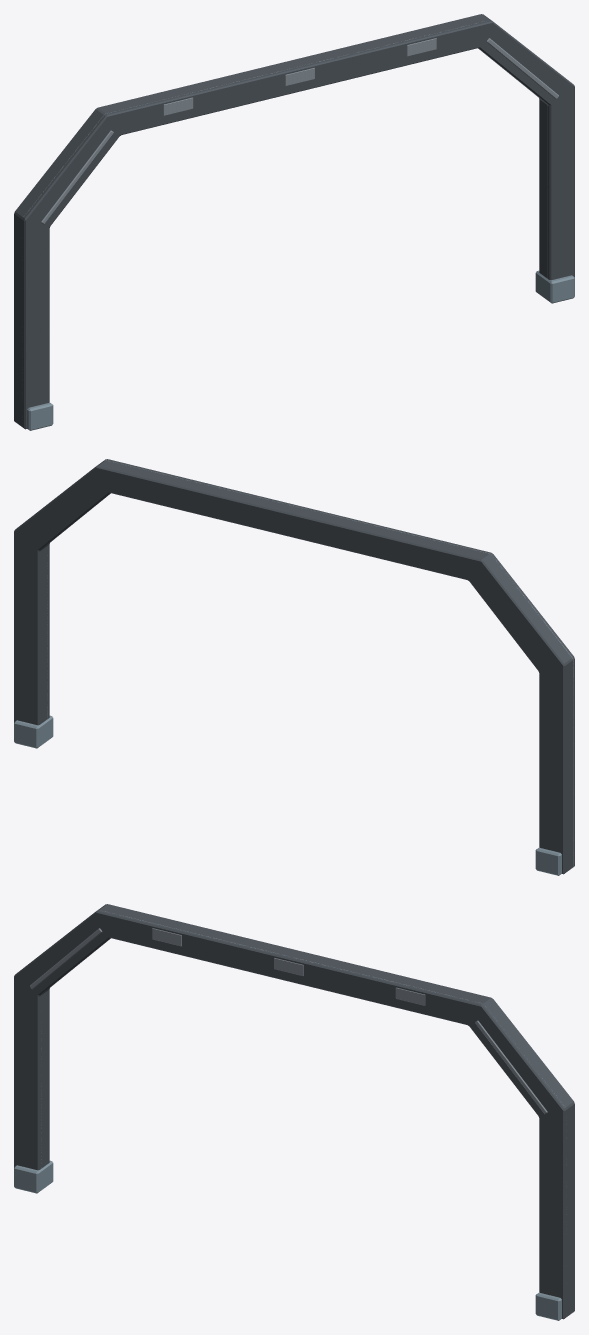
File: NA_GalleryRib_G02_LOD1.fbx
3 renders of one model, top to bottom at view 1: azimuth 30°, elevation 25°; view 2: azimuth 150°, elevation 25°; view 3: azimuth 330°, elevation 25°, orthographic.
Visible parts, largest first — view 1: NA_GalleryRib_G02_LOD1; view 2: NA_GalleryRib_G02_LOD1; view 3: NA_GalleryRib_G02_LOD1.
Part boxes in pixels (bbox=[...]): NA_GalleryRib_G02_LOD1: bbox=[14, 14, 574, 430]; NA_GalleryRib_G02_LOD1: bbox=[14, 459, 574, 875]; NA_GalleryRib_G02_LOD1: bbox=[14, 904, 574, 1320].
Bounding box in the file's own units: 30.3 × 15.49 × 1.56.
